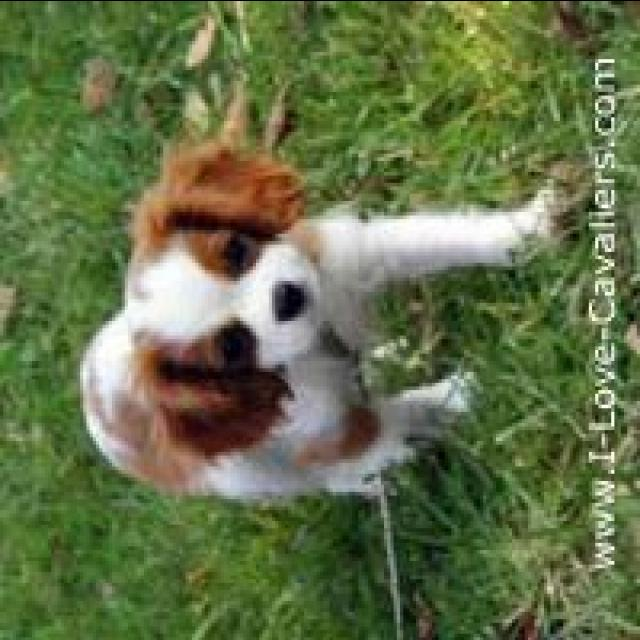blenheim_spaniel: (70, 127, 570, 509)
